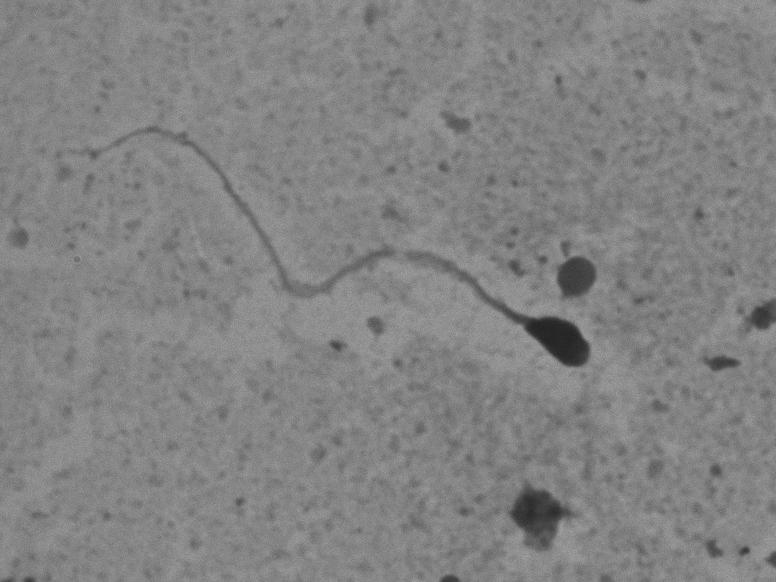Abnormal: (58, 81, 598, 400)
